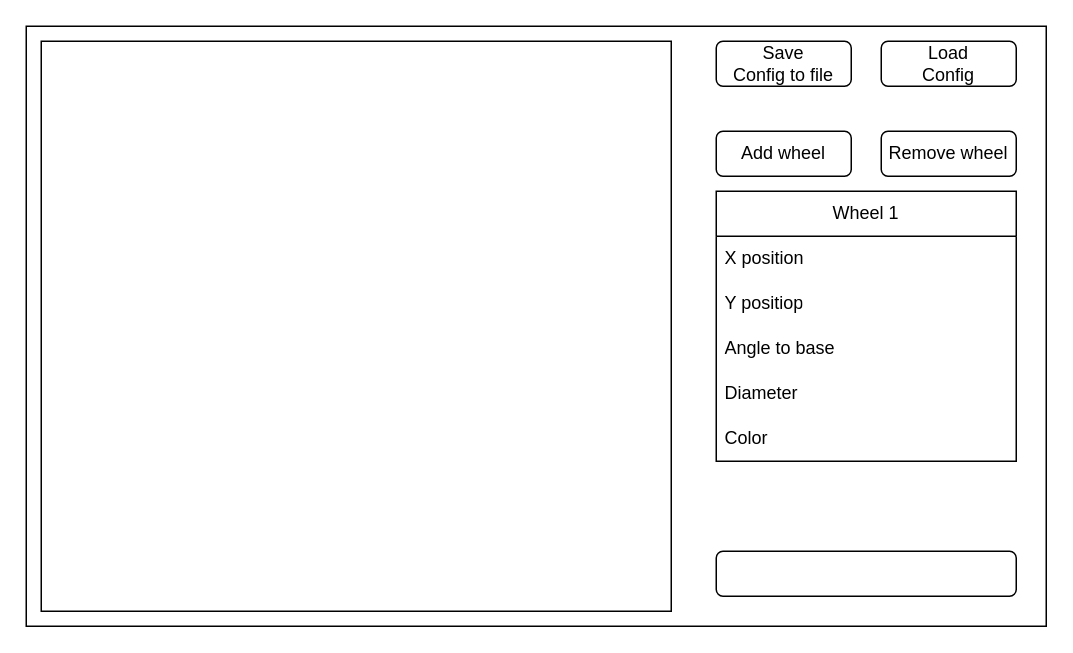
This 1073x653 diagram has some shape labels left out. The centre of each missing label's shape, as x and y in pixels:
Apply config: (x=865, y=573)
Robot Visulaization: (x=355, y=325)
